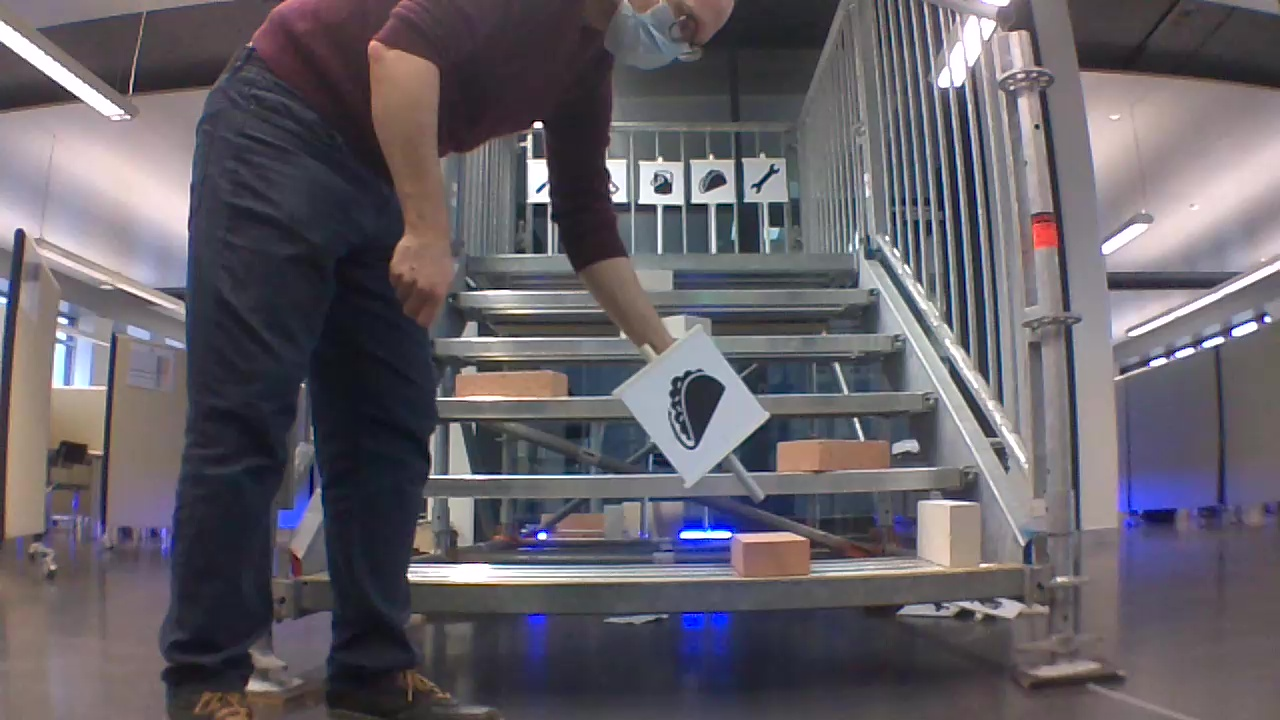brick: (918, 501, 980, 567), (778, 438, 887, 472), (730, 530, 810, 576), (456, 370, 566, 395), (637, 270, 670, 290)
bucket: (644, 169, 677, 196)
edge: (416, 568, 1026, 612)
taco: (650, 366, 731, 449), (695, 166, 727, 195)
wrench: (745, 161, 784, 195)
